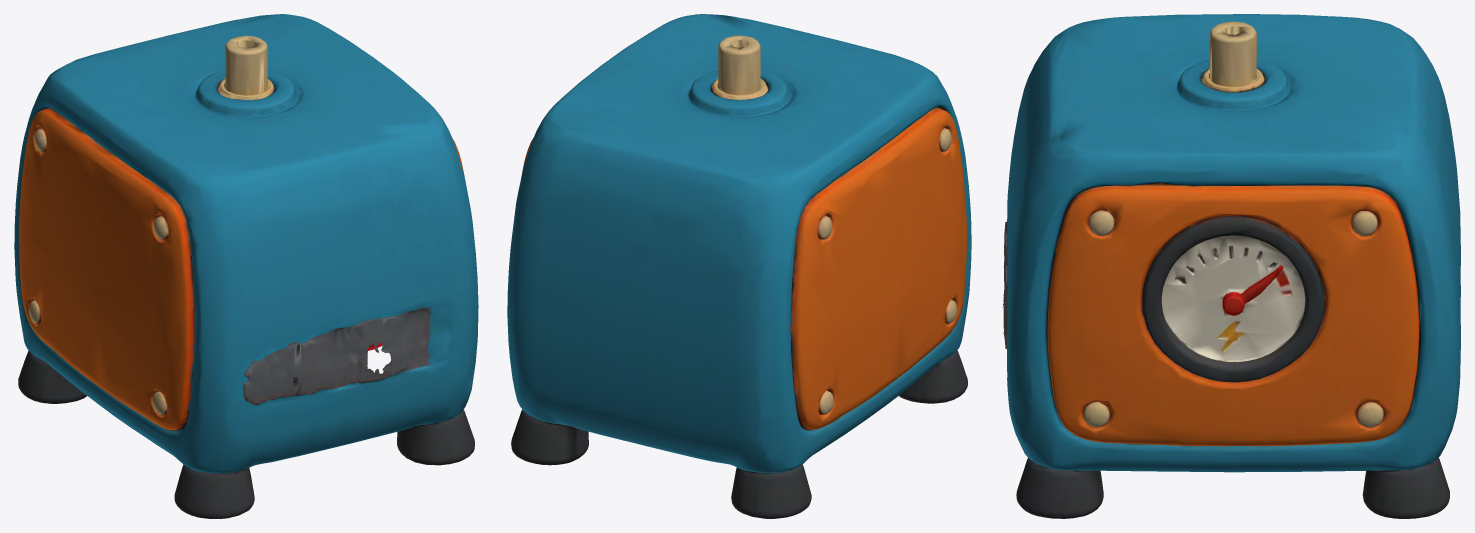
Rendered from dynamo.glb.
3 renders of one model, left to right at view 1: azimuth 30°, elevation 25°; view 2: azimuth 150°, elevation 25°; view 3: azimuth 270°, elevation 25°, orthographic. The views are drawn at different scales.
Parts seen in each view (by area): view 1: tripo_node_36803f23-402e-482d-874a-9f1efe3e7d22; view 2: tripo_node_36803f23-402e-482d-874a-9f1efe3e7d22; view 3: tripo_node_36803f23-402e-482d-874a-9f1efe3e7d22.
Boxes of the visible parts, box(x1,y1,x2,y2) form: tripo_node_36803f23-402e-482d-874a-9f1efe3e7d22: box(14, 14, 478, 518); tripo_node_36803f23-402e-482d-874a-9f1efe3e7d22: box(507, 14, 971, 518); tripo_node_36803f23-402e-482d-874a-9f1efe3e7d22: box(1002, 14, 1460, 518).
Bounding box in the file's own units: 0.8584 × 0.9901 × 1.
Materials: 1 (1 with a texture image).
